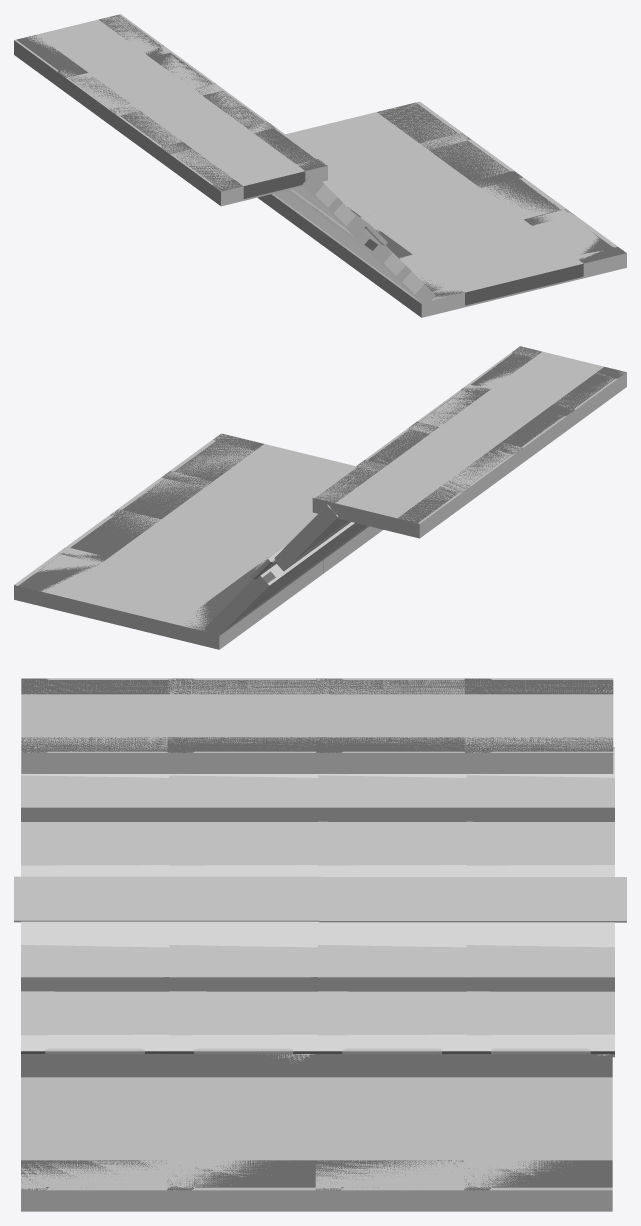
Rendered from SM_Arc_Armory_Ceiling_Angle_med_01A_V3.fbx.
3 renders of one model, top to bottom at view 1: azimuth 30°, elevation 25°; view 2: azimuth 150°, elevation 25°; view 3: azimuth 270°, elevation 25°, orthographic. The views are drawn at different scales.
Visible parts, largest first — view 1: SM_Arc_Armory_Ceiling_Angle_med_01A_V3_ConvexHulls, SM_Arc_Armory_Ceiling_Angle_med_01A_V3; view 2: SM_Arc_Armory_Ceiling_Angle_med_01A_V3_ConvexHulls, SM_Arc_Armory_Ceiling_Angle_med_01A_V3; view 3: SM_Arc_Armory_Ceiling_Angle_med_01A_V3_ConvexHulls, SM_Arc_Armory_Ceiling_Angle_med_01A_V3.
Boxes of the visible parts, x1=… form: SM_Arc_Armory_Ceiling_Angle_med_01A_V3_ConvexHulls: x1=14, y1=14, x2=626, y2=317; SM_Arc_Armory_Ceiling_Angle_med_01A_V3: x1=16, y1=14, x2=626, y2=314; SM_Arc_Armory_Ceiling_Angle_med_01A_V3_ConvexHulls: x1=14, y1=346, x2=626, y2=649; SM_Arc_Armory_Ceiling_Angle_med_01A_V3: x1=18, y1=346, x2=626, y2=637; SM_Arc_Armory_Ceiling_Angle_med_01A_V3_ConvexHulls: x1=14, y1=678, x2=626, y2=1211; SM_Arc_Armory_Ceiling_Angle_med_01A_V3: x1=21, y1=678, x2=614, y2=1190.
Size of the model in its own units: 1442 by 1320 by 594.
4 materials, 2 textured.
